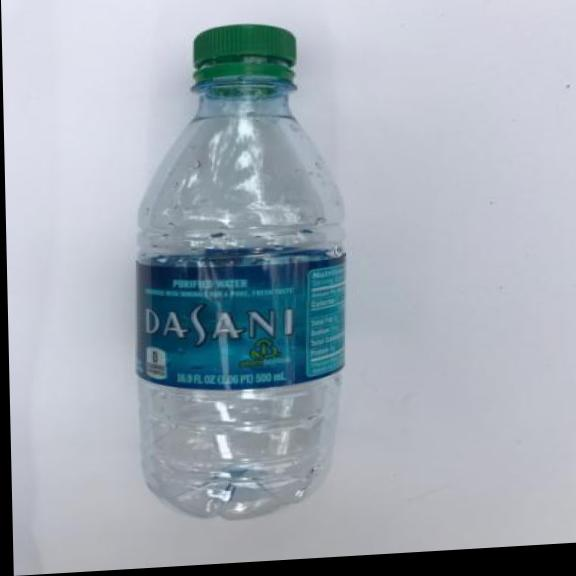Plastik: (130, 15, 353, 528)
